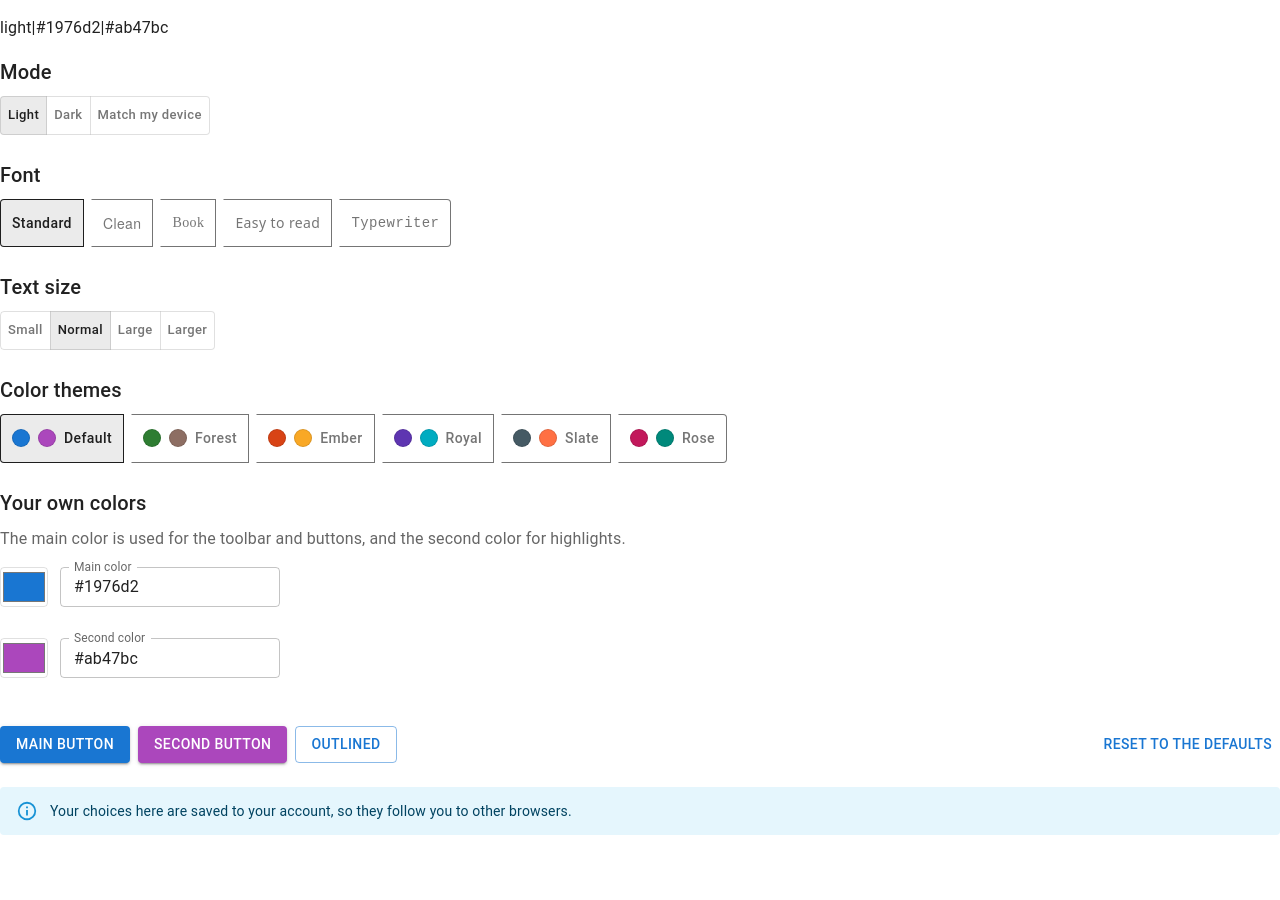
it: mode › can follow the device
Click the button "Match my device" at (150, 115), box [90,96,210,135]
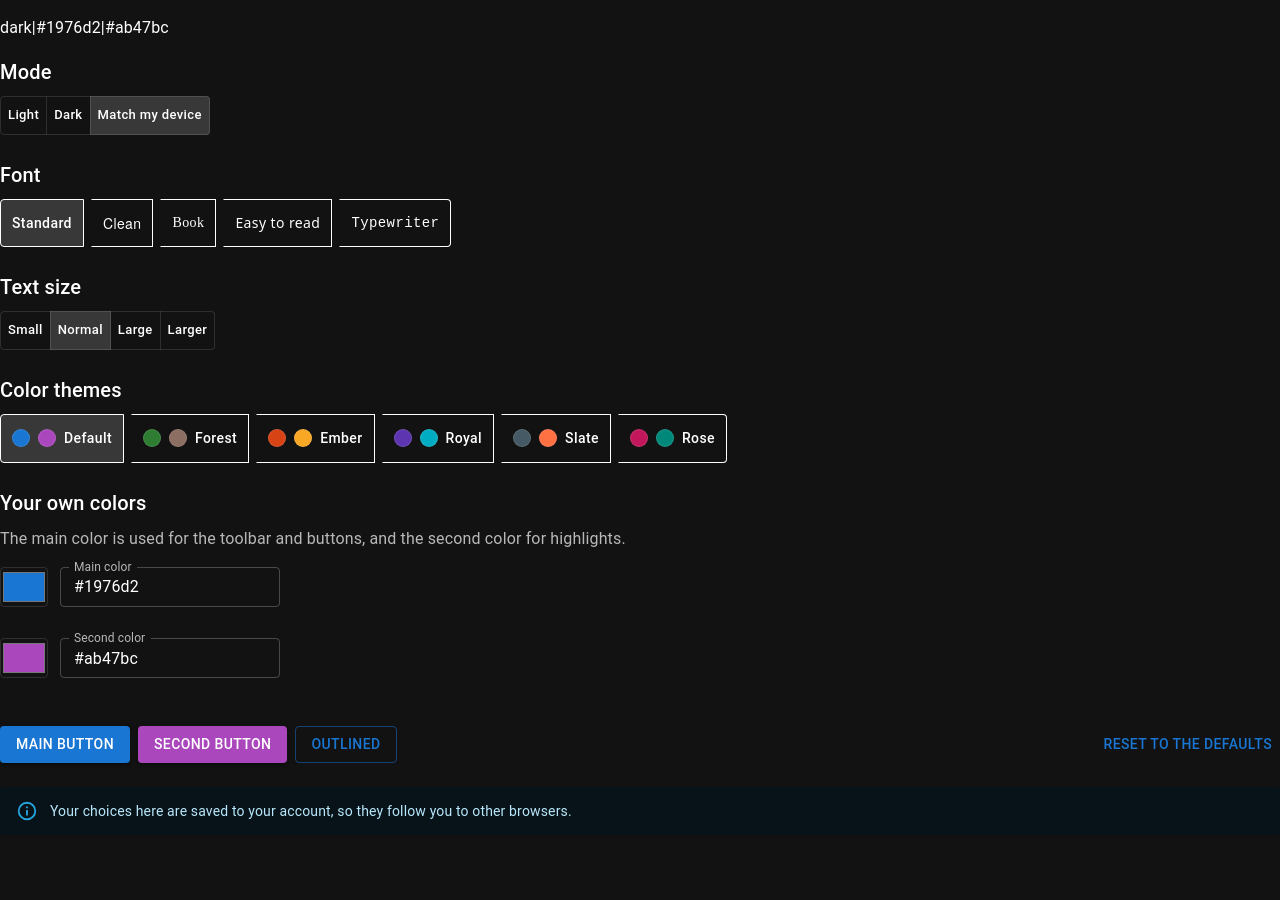
Check: the text with test id "probe" reads "dark|#1976d2|#ab47bc", box [0,18,32,37]
